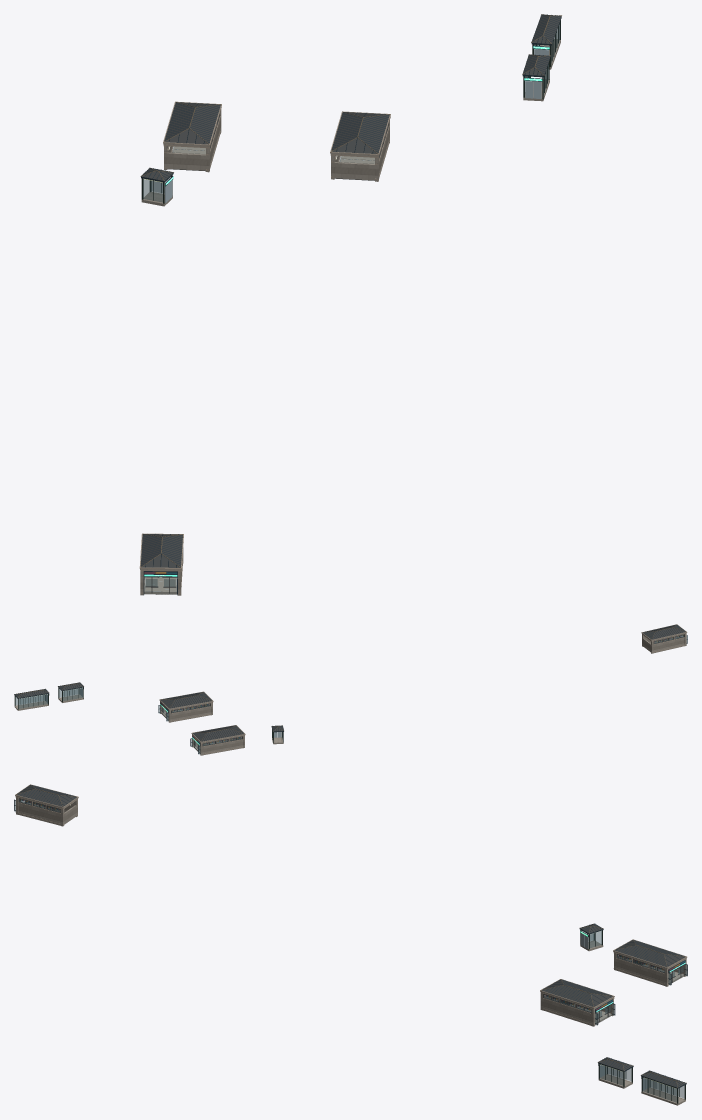
Rendered from place-pktrm.glb.
The picture shows the model from 3 angles, top to bottom: view 1: azimuth 30°, elevation 25°; view 2: azimuth 150°, elevation 25°; view 3: azimuth 270°, elevation 25°; orthographic projection. The views are drawn at different scales.
Visible parts, largest first — view 1: Tremont inbound kiosk.Gunmetal, Common outbound kiosk.Gunmetal, Exit 8 stone kiosk.Gunmetal, Tremont inbound kiosk.BostonGranite, Common outbound kiosk.BostonGranite, Common outbound kiosk.Iron, Tremont inbound kiosk.Iron, Exit 8 stone kiosk.Iron; view 2: Tremont inbound kiosk.Gunmetal, Common outbound kiosk.Gunmetal, Common outbound kiosk.BostonGranite, Tremont inbound kiosk.BostonGranite, Exit 8 stone kiosk.BostonGranite, Exit 8 stone kiosk.Gunmetal, Tremont glass pavilion.Glass, Common outbound kiosk.Limestone, Tremont inbound kiosk.Limestone, Exit 8 stone kiosk.Limestone, Tremont inbound kiosk.Iron, Common outbound kiosk.Iron (+1 smaller); view 3: Tremont inbound kiosk.Gunmetal, Common outbound kiosk.Gunmetal, Exit 8 stone kiosk.BostonGranite, Tremont inbound kiosk.BostonGranite, Common outbound kiosk.BostonGranite, Exit 8 stone kiosk.Gunmetal, Tremont glass pavilion.Glass, Tremont inbound kiosk.Iron, Common outbound kiosk.Iron, Common outbound kiosk.Limestone, Tremont inbound kiosk.Limestone.
Part boxes in pixels (bbox=[...]): Tremont inbound kiosk.Gunmetal: bbox=[331, 112, 389, 158]; Common outbound kiosk.Gunmetal: bbox=[164, 102, 220, 149]; Exit 8 stone kiosk.Gunmetal: bbox=[140, 534, 182, 593]; Tremont inbound kiosk.BostonGranite: bbox=[330, 120, 389, 181]; Common outbound kiosk.BostonGranite: bbox=[163, 109, 221, 172]; Common outbound kiosk.Iron: bbox=[164, 102, 220, 143]; Tremont inbound kiosk.Iron: bbox=[331, 112, 389, 153]; Exit 8 stone kiosk.Iron: bbox=[141, 534, 182, 594]; Tremont inbound kiosk.Gunmetal: bbox=[160, 692, 211, 718]; Common outbound kiosk.Gunmetal: bbox=[192, 725, 244, 751]; Common outbound kiosk.BostonGranite: bbox=[192, 734, 244, 755]; Tremont inbound kiosk.BostonGranite: bbox=[159, 700, 212, 722]; Exit 8 stone kiosk.BostonGranite: bbox=[641, 632, 686, 653]; Exit 8 stone kiosk.Gunmetal: bbox=[642, 624, 685, 643]; Tremont glass pavilion.Glass: bbox=[15, 694, 47, 708]; Common outbound kiosk.Limestone: bbox=[191, 725, 245, 754]; Tremont inbound kiosk.Limestone: bbox=[159, 691, 213, 721]; Exit 8 stone kiosk.Limestone: bbox=[641, 624, 687, 652]; Tremont inbound kiosk.Iron: bbox=[158, 692, 211, 720]; Common outbound kiosk.Iron: bbox=[190, 725, 243, 753]; Tremont inbound kiosk.Gunmetal: bbox=[541, 979, 613, 1022]; Common outbound kiosk.Gunmetal: bbox=[614, 940, 685, 982]; Exit 8 stone kiosk.BostonGranite: bbox=[15, 795, 78, 826]; Tremont inbound kiosk.BostonGranite: bbox=[540, 991, 614, 1026]; Common outbound kiosk.BostonGranite: bbox=[613, 951, 686, 986]; Exit 8 stone kiosk.Gunmetal: bbox=[16, 785, 77, 812]; Tremont glass pavilion.Glass: bbox=[642, 1077, 684, 1102]; Tremont inbound kiosk.Iron: bbox=[543, 979, 615, 1024]; Common outbound kiosk.Iron: bbox=[616, 940, 687, 984]; Common outbound kiosk.Limestone: bbox=[613, 939, 687, 985]; Tremont inbound kiosk.Limestone: bbox=[540, 979, 614, 1025].
Size of the model in its own units: 127 by 4.64 by 120.
16 materials, 3 textured.
